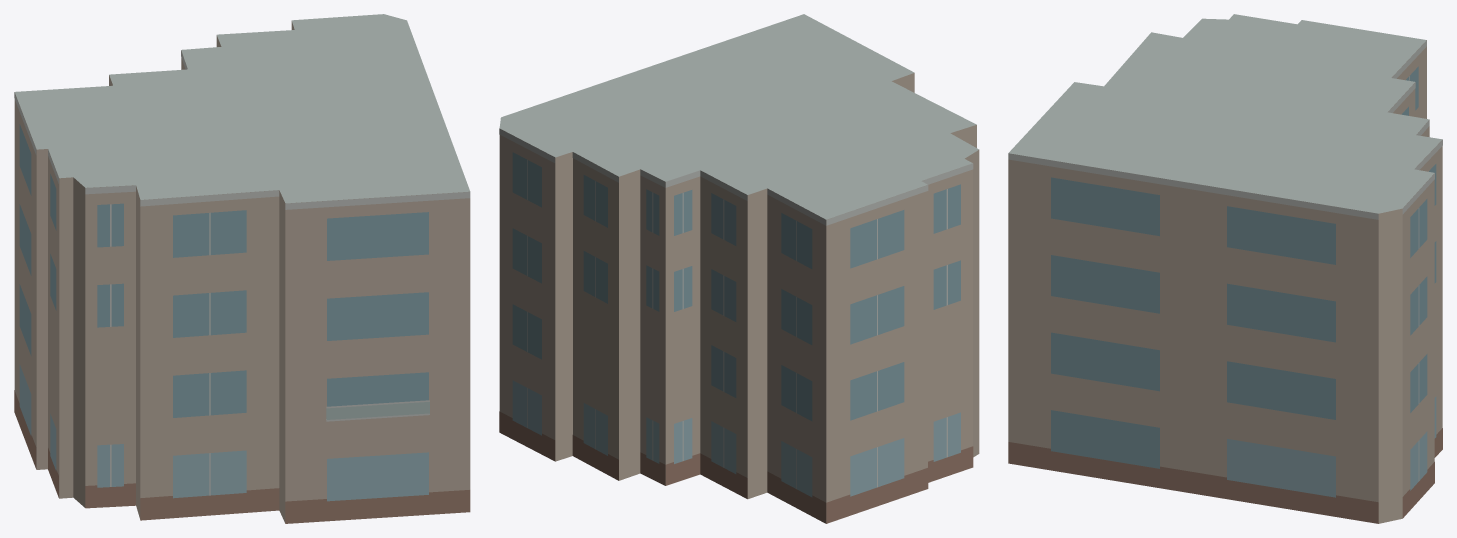
File: survey-upis-32931778.glb
The picture shows the model from 3 angles, left to right: view 1: azimuth 30°, elevation 25°; view 2: azimuth 150°, elevation 25°; view 3: azimuth 270°, elevation 25°; orthographic projection. The views are drawn at different scales.
Parts seen in each view (by area): view 1: survey-upis-32931778.tmp; view 2: survey-upis-32931778.tmp; view 3: survey-upis-32931778.tmp.
Part boxes in pixels (x1,y1,x2,y2): survey-upis-32931778.tmp: (14,14,470,523); survey-upis-32931778.tmp: (499,14,979,523); survey-upis-32931778.tmp: (1008,14,1442,523).
Bounding box in the file's own units: 16.68 × 12.08 × 15.34.
